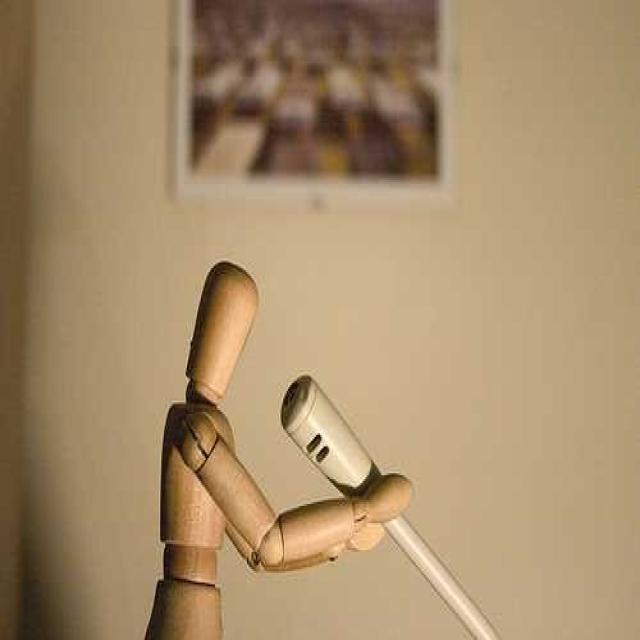microphone: (287, 378, 520, 640)
